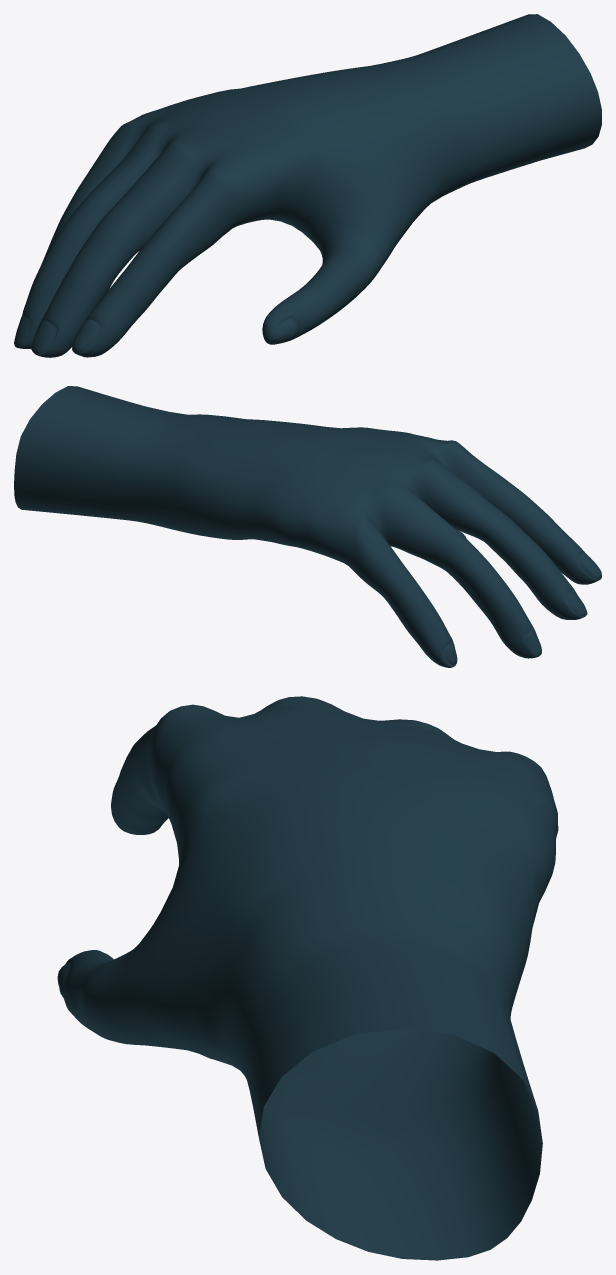
File: hand_left.obj
3 views of the same model, one above another, from view 1: azimuth 30°, elevation 25°; view 2: azimuth 150°, elevation 25°; view 3: azimuth 270°, elevation 25° (orthographic). The views are drawn at different scales.
Visible parts, largest first — view 1: hand_left; view 2: hand_left; view 3: hand_left.
Part boxes in pixels (<box>): hand_left: <box>14,14,601,357</box>; hand_left: <box>14,386,601,667</box>; hand_left: <box>57,696,558,1260</box>.
Size of the model in its own units: 0.2245 by 0.0702 by 0.0972.
